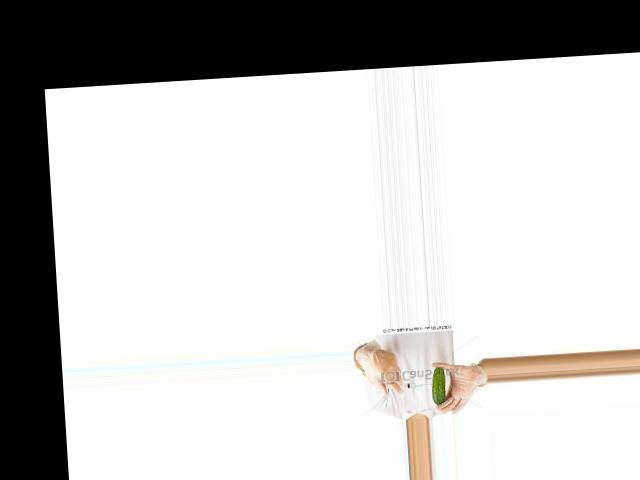cucumber: (431, 365, 447, 404)
